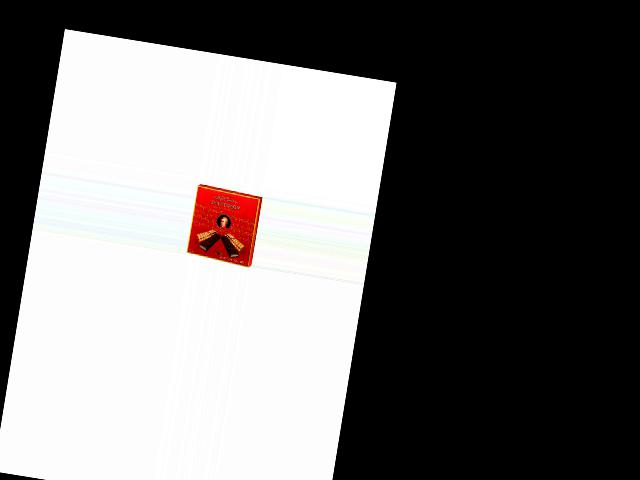chocolate: (184, 184, 263, 269)
